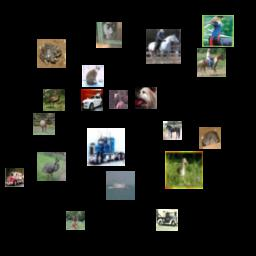automobile: (81, 89, 103, 111)
bird: (165, 151, 203, 189), (202, 15, 234, 47), (37, 152, 66, 181), (43, 89, 65, 111)
cat: (96, 22, 122, 48), (199, 127, 221, 149), (82, 65, 104, 87)
deer: (33, 113, 55, 135), (66, 211, 85, 230), (109, 90, 128, 109)
dog: (135, 87, 157, 109)
frog: (37, 39, 66, 68)
ship: (106, 171, 135, 200)
truck: (87, 128, 125, 166), (156, 209, 178, 231), (5, 168, 24, 187)
